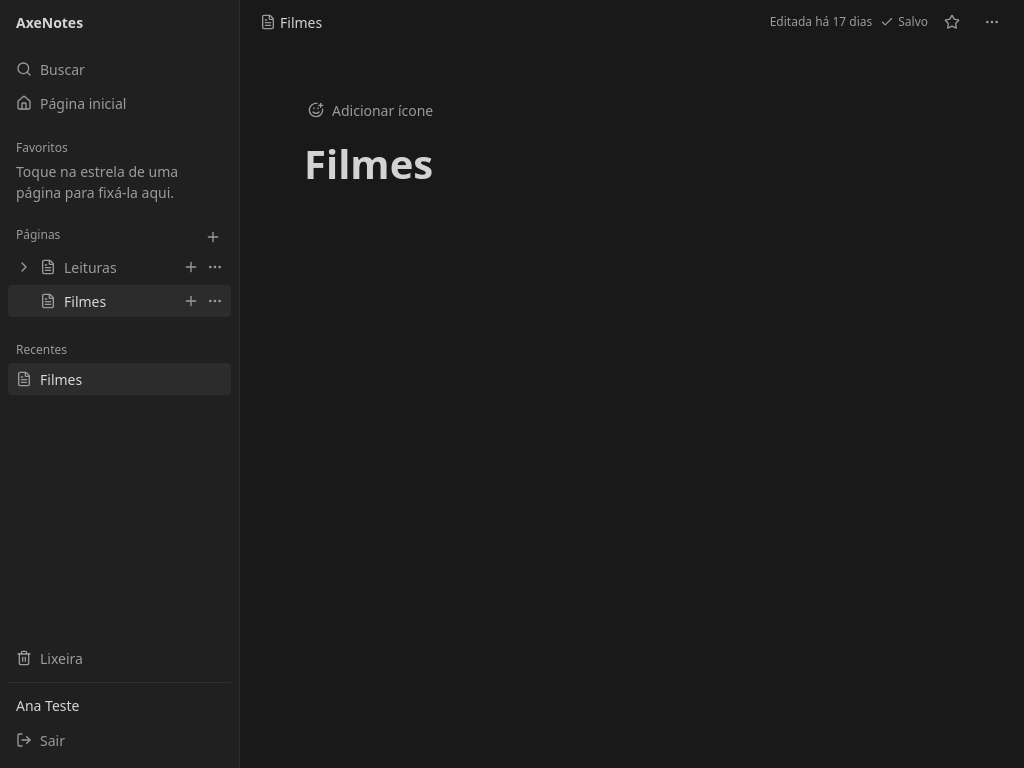
it: mover para a lixeira pela árvore › does not navigate when another page is trashed
Expected: the text box named "Título da página" holds "Filmes", 304,140 -> 960,191
Click the button named "Mais ações de Leituras".
click(215, 267)  # box 203,253 -> 227,281
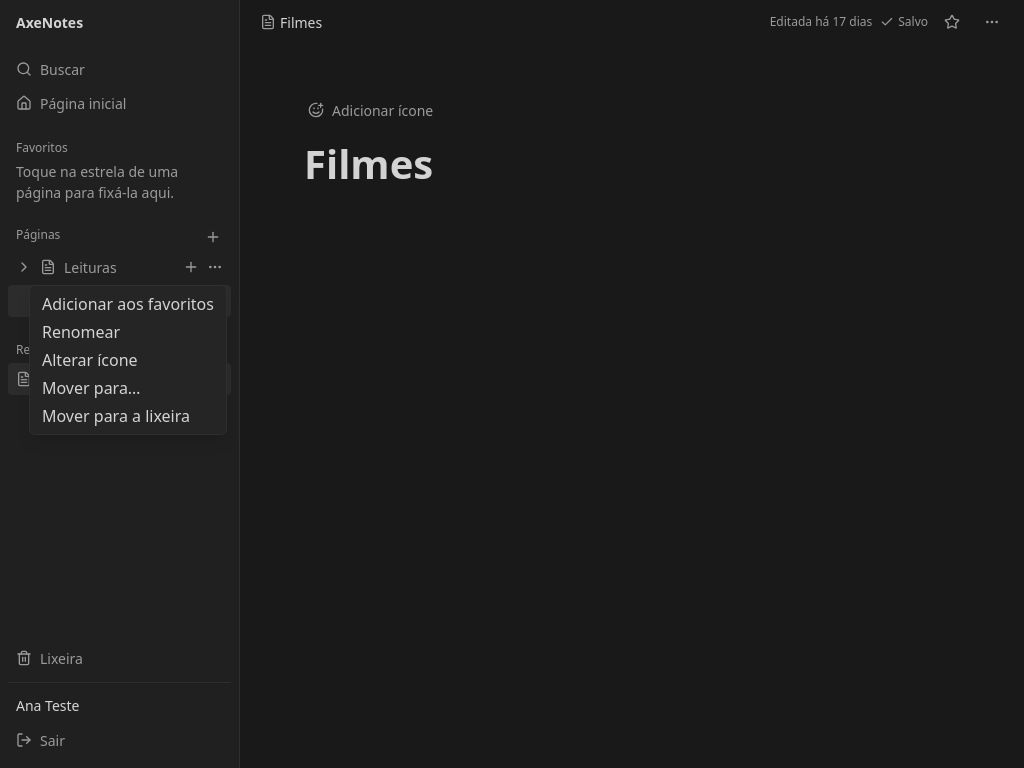
Click the menu item "Mover para a lixeira".
click(116, 416)  # box 42,405 -> 190,427
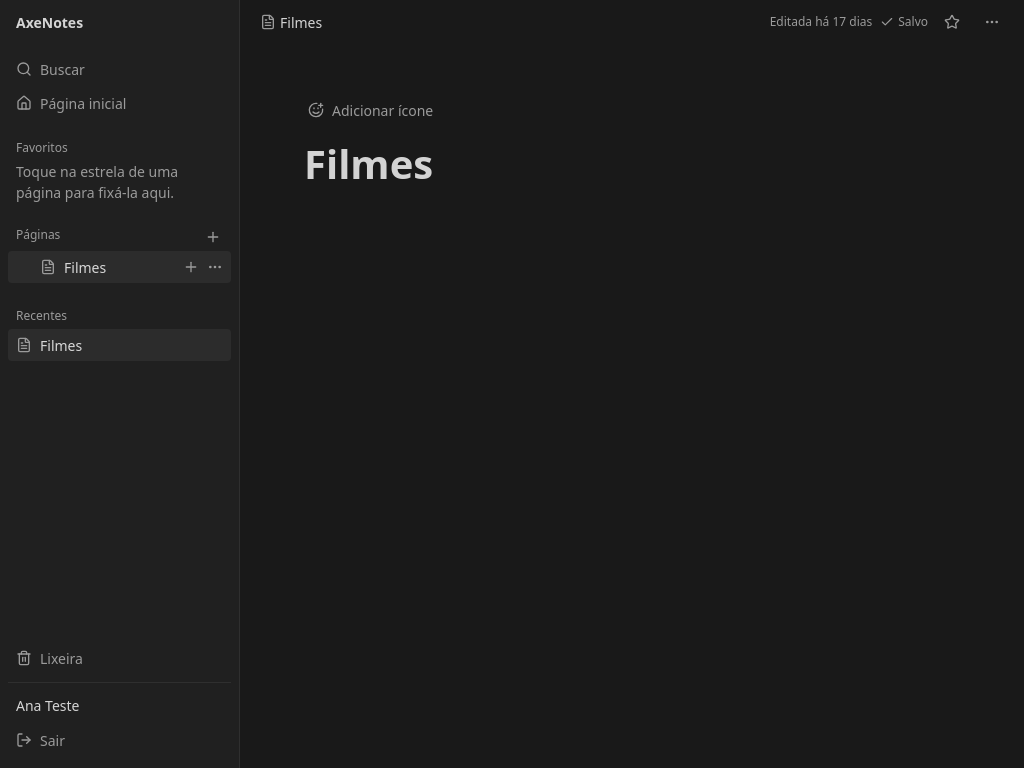
Expected: the text box named "Título da página" holds "Filmes", 304,140 -> 960,191
Result: the link "Leituras" is gone
